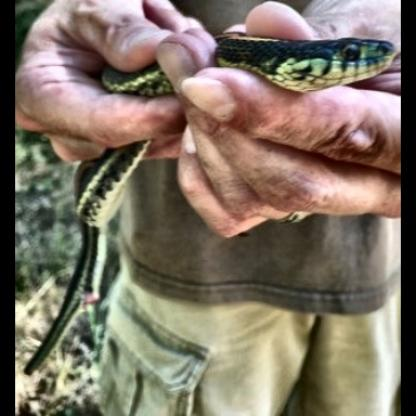Snake: (50, 33, 400, 231)
